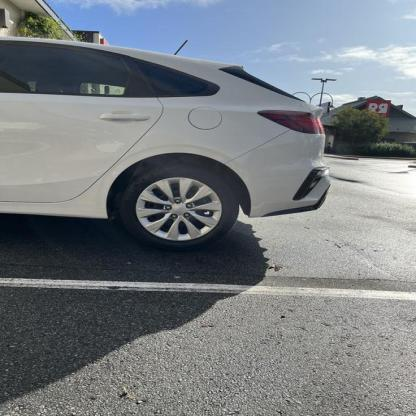Tire: (118, 164, 239, 251)
